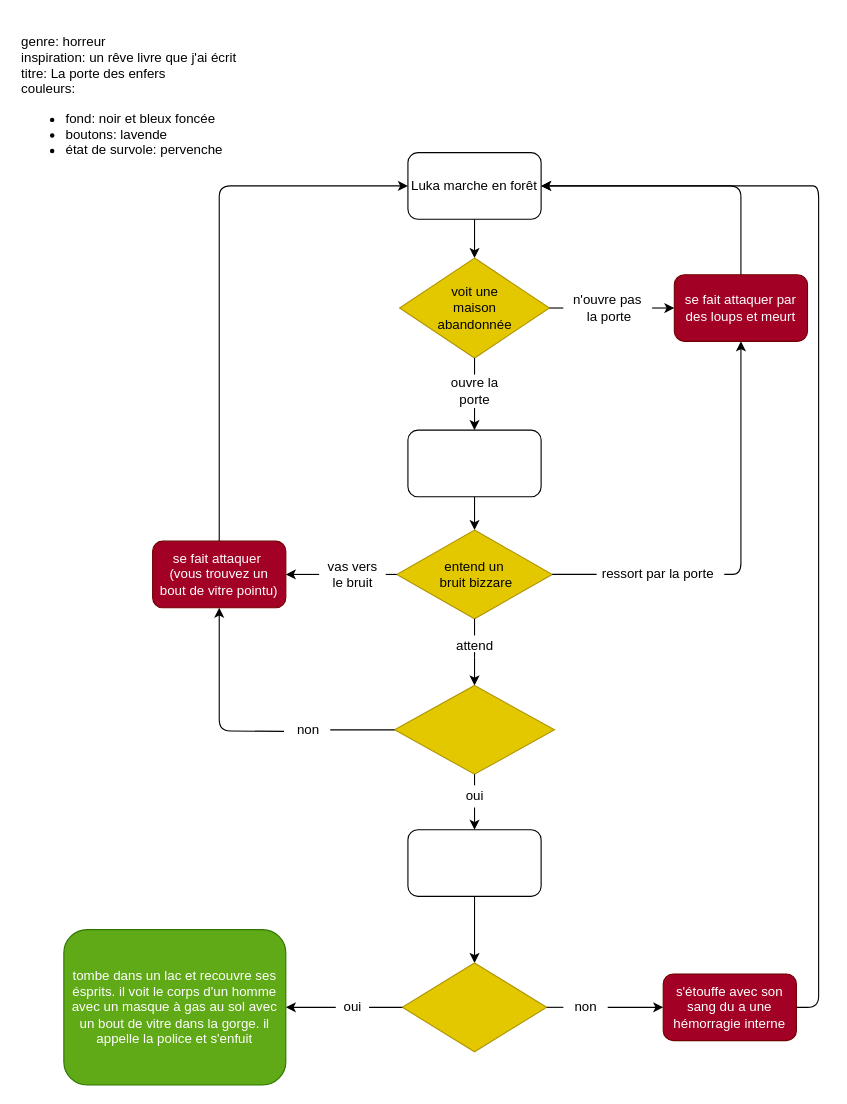
Image size: 847x1104. Some labels were removed from this diagram. The centre of each missing label's shape, as x and y in pixels:
avez vous le bout de vitre?: (x=473, y=729)
courrir?: (x=474, y=1007)
s'évanouie et se réveil après: (x=474, y=463)
tue la créature avec le bout de vitre: (x=474, y=862)
